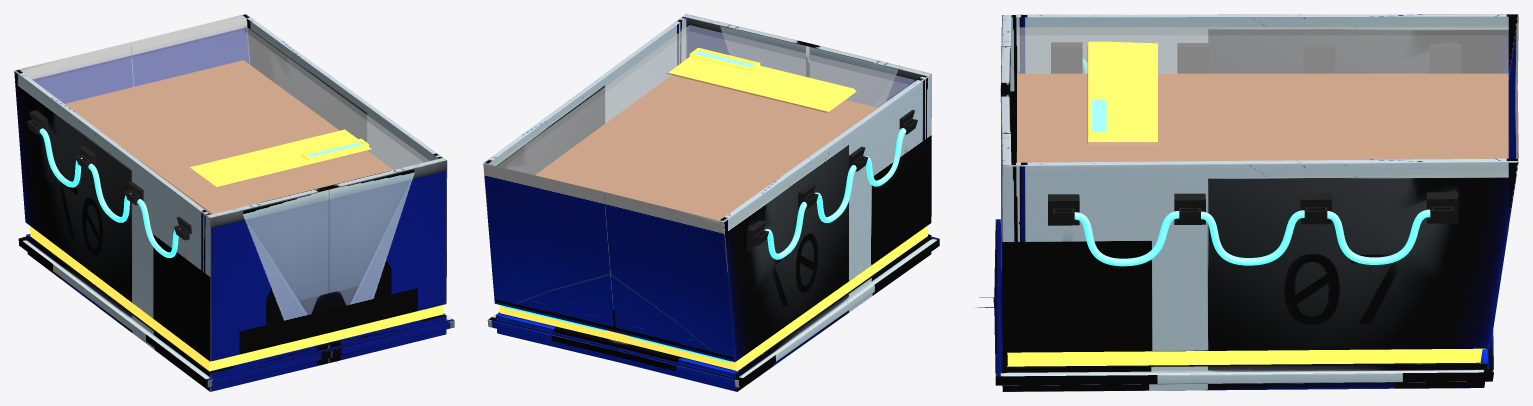
File: farmerBox.glb
3 renders of one model, left to right at view 1: azimuth 30°, elevation 25°; view 2: azimuth 150°, elevation 25°; view 3: azimuth 270°, elevation 25°, orthographic. The views are drawn at different scales.
Parts seen in each view (by area): view 1: Cube.002, cap, foodContent, Curve.001, Cube.004; view 2: Cube.002, cap, foodContent, Curve.001, Cube.004; view 3: Cube.002, cap, foodContent, Cube.003, Cube.004, Curve.
Part boxes in pixels (x1,y1,x2,y2): Cube.002: (14,14,454,391); cap: (29,24,429,214); foodContent: (65,60,392,213); Curve.001: (39,128,180,257); Cube.004: (26,110,191,240); Cube.002: (483,14,939,391); cap: (497,25,914,220); foodContent: (535,74,876,219); Curve.001: (764,128,906,259); Cube.004: (747,110,917,251); Cube.002: (974,14,1518,391); cap: (1017,27,1508,162); foodContent: (1016,74,1508,162); Cube.003: (1048,192,1458,225); Cube.004: (1051,42,1460,73); Curve: (1074,209,1430,266).
Size of what is drawn, in the model's own units: 10.24 by 6.59 by 14.29.
Materials: 8 (1 with a texture image).
